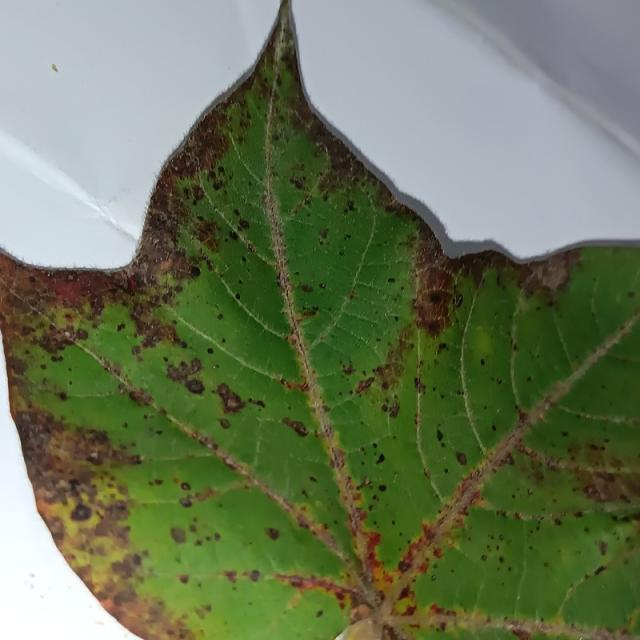Bacterial_Blight: (14, 409, 75, 478), (521, 250, 579, 299), (272, 573, 360, 604), (168, 510, 226, 556), (103, 599, 166, 637), (355, 525, 387, 590), (413, 289, 453, 331), (128, 304, 166, 342), (585, 471, 628, 503), (214, 381, 249, 415), (176, 483, 225, 506), (51, 277, 85, 304), (426, 603, 454, 625), (34, 495, 57, 521), (128, 387, 156, 407), (281, 417, 309, 437), (334, 360, 361, 378), (166, 363, 188, 384), (97, 595, 119, 615), (349, 603, 372, 622), (70, 502, 92, 521), (394, 596, 415, 615), (330, 445, 345, 471), (363, 529, 381, 550), (355, 377, 375, 395), (184, 378, 205, 395), (169, 526, 187, 544), (23, 573, 40, 592), (382, 623, 402, 639), (155, 258, 173, 275), (507, 625, 528, 639), (296, 308, 318, 321), (610, 512, 635, 523), (396, 586, 411, 602), (265, 527, 280, 541), (387, 402, 399, 419), (128, 275, 139, 293), (597, 539, 608, 556), (179, 496, 193, 508), (456, 451, 467, 466), (76, 328, 89, 340), (397, 560, 410, 572), (429, 292, 442, 304), (292, 178, 304, 190), (238, 218, 250, 230), (189, 265, 201, 277), (218, 418, 231, 429), (299, 283, 313, 293), (454, 294, 464, 308), (249, 569, 260, 581), (594, 565, 606, 576), (131, 554, 142, 566), (178, 574, 189, 584), (228, 230, 238, 241), (347, 200, 356, 212), (436, 429, 444, 442), (116, 322, 126, 332), (319, 228, 328, 239), (376, 453, 385, 464), (180, 481, 191, 490), (151, 237, 160, 246), (378, 484, 387, 492), (67, 273, 76, 281), (316, 611, 324, 619), (309, 476, 318, 483), (318, 282, 326, 289), (206, 347, 214, 354), (234, 292, 241, 300), (51, 64, 58, 72), (387, 277, 396, 283), (95, 620, 104, 626), (481, 554, 487, 562), (627, 291, 635, 297), (480, 358, 486, 366), (491, 424, 497, 431), (217, 313, 223, 320), (527, 488, 533, 495), (430, 574, 436, 581), (64, 331, 70, 338), (537, 616, 542, 624), (526, 376, 532, 382), (29, 572, 35, 578), (212, 364, 217, 369)
Cotton: (0, 2, 639, 639)
